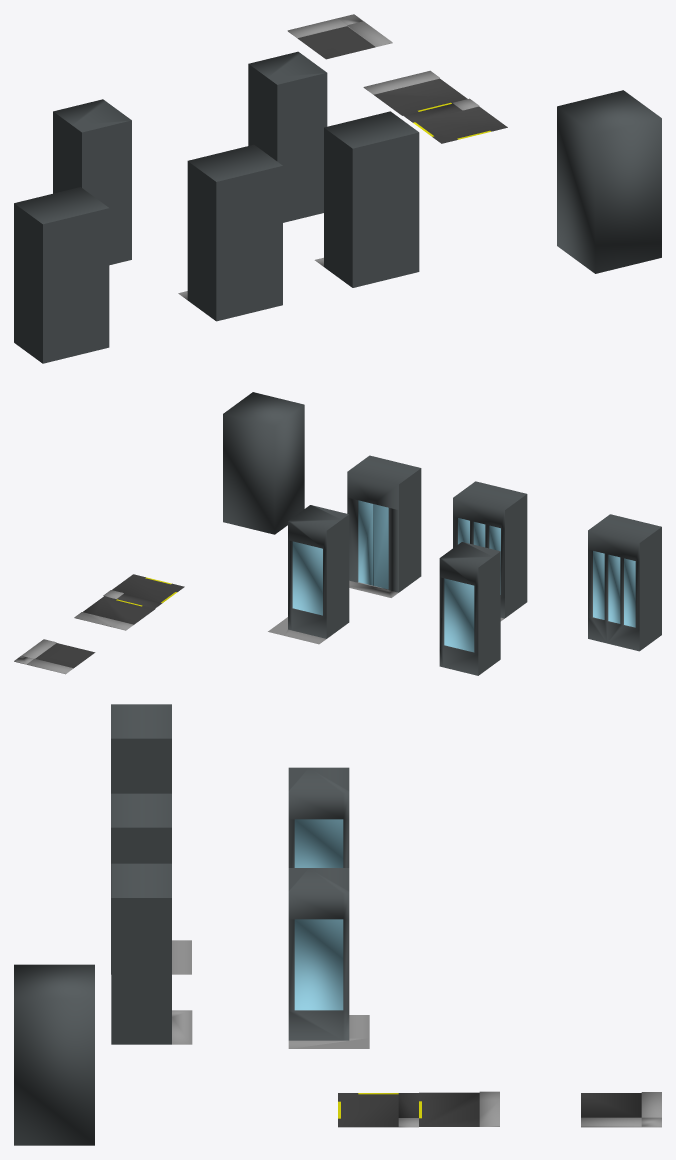
Rendered from Models 1.fbx.
The picture shows the model from 3 angles, top to bottom: view 1: azimuth 30°, elevation 25°; view 2: azimuth 150°, elevation 25°; view 3: azimuth 270°, elevation 25°; orthographic projection. The views are drawn at different scales.
Parts seen in each view (by area): view 1: BuildingCenter, BuildingDoor, BuildingStraight, BuildingStraightUp, BuildingCorner, BuildingCornerUp, InnerCurve, Straight, OuterCurve; view 2: BuildingCenter, BuildingDoor, BuildingStraightUp, BuildingCorner, BuildingCornerUp, BuildingStraight, InnerCurve, Straight, OuterCurve; view 3: BuildingCenter, BuildingCorner, BuildingDoor, BuildingCornerUp, BuildingStraightUp, BuildingStraight, InnerCurve, Straight, OuterCurve.
Boxes of the visible parts, left/top/right/bottom form: BuildingCenter: left=557, top=90, right=661, bottom=273; BuildingDoor: left=314, top=111, right=419, bottom=287; BuildingStraight: left=178, top=144, right=282, bottom=321; BuildingStraightUp: left=14, top=187, right=109, bottom=363; BuildingCorner: left=248, top=51, right=327, bottom=222; BuildingCornerUp: left=53, top=99, right=131, bottom=265; InnerCurve: left=287, top=14, right=392, bottom=59; Straight: left=363, top=70, right=467, bottom=115; OuterCurve: left=403, top=98, right=507, bottom=143; BuildingCenter: left=223, top=392, right=304, bottom=534; BuildingDoor: left=347, top=455, right=421, bottom=597; BuildingStraightUp: left=588, top=514, right=661, bottom=651; BuildingCorner: left=268, top=505, right=349, bottom=644; BuildingCornerUp: left=439, top=542, right=500, bottom=675; BuildingStraight: left=453, top=481, right=527, bottom=621; InnerCurve: left=14, top=639, right=95, bottom=674; Straight: left=74, top=596, right=155, bottom=630; OuterCurve: left=103, top=574, right=184, bottom=608; BuildingCenter: left=14, top=964, right=94, bottom=1145; BuildingCorner: left=288, top=868, right=369, bottom=1048; BuildingDoor: left=111, top=863, right=192, bottom=1044; BuildingCornerUp: left=288, top=767, right=349, bottom=867; BuildingStraightUp: left=111, top=704, right=171, bottom=793; BuildingStraight: left=111, top=793, right=191, bottom=974; InnerCurve: left=581, top=1092, right=661, bottom=1127; Straight: left=419, top=1091, right=499, bottom=1126; OuterCurve: left=338, top=1093, right=418, bottom=1127.
Size of the model in its own units: 34.41 by 8 by 32.
